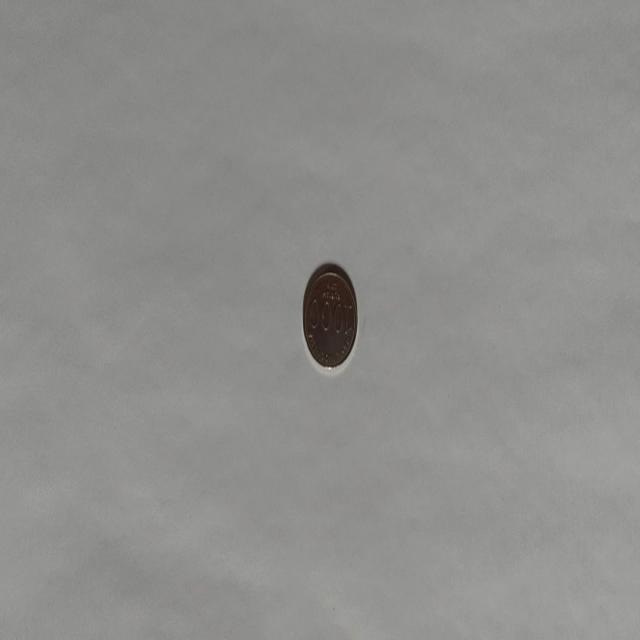seribu rupiah koin: (301, 260, 358, 374)
